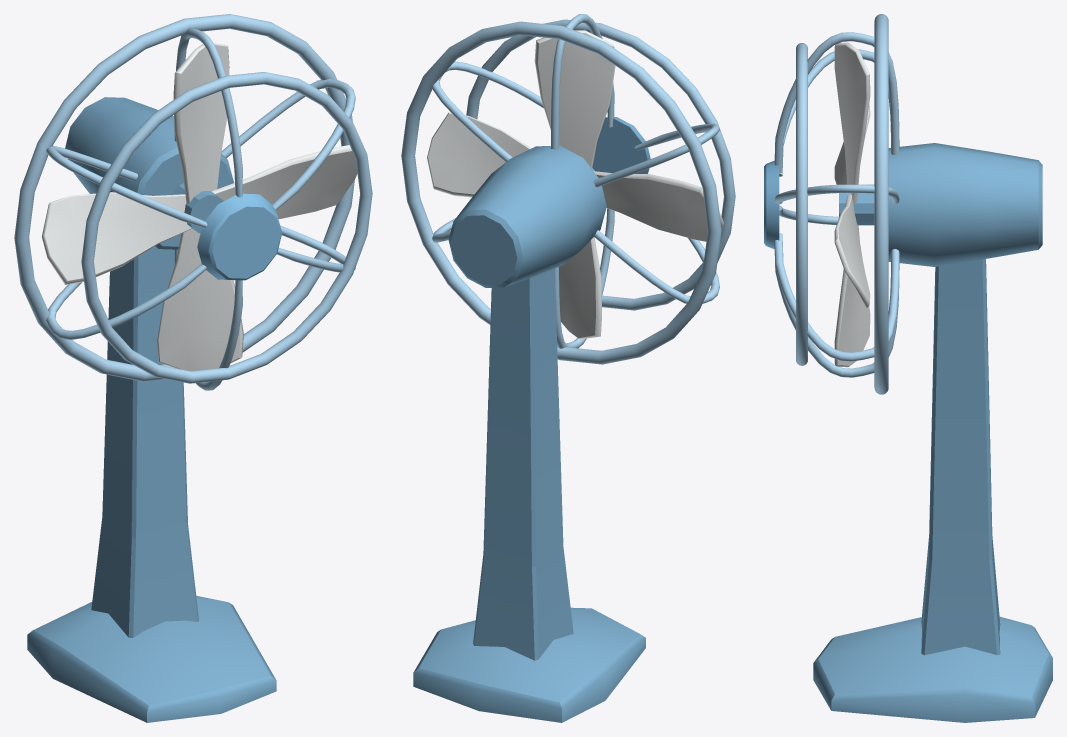
File: Fun_01.FBX
3 views of the same model, side by side, from view 1: azimuth 30°, elevation 25°; view 2: azimuth 150°, elevation 25°; view 3: azimuth 270°, elevation 25° (orthographic). The views are drawn at different scales.
Parts seen in each view (by area): view 1: Fun_01, fun; view 2: Fun_01, fun; view 3: Fun_01, fun.
Part boxes in pixels (left/top/right/bottom): Fun_01: left=14, top=14, right=372, bottom=722; fun: left=42, top=43, right=357, bottom=370; Fun_01: left=401, top=14, right=735, bottom=722; fun: left=427, top=30, right=723, bottom=339; Fun_01: left=764, top=14, right=1052, bottom=722; fun: left=834, top=42, right=874, bottom=367.
Bounding box in the file's own units: 54.51 × 102 × 41.17.
